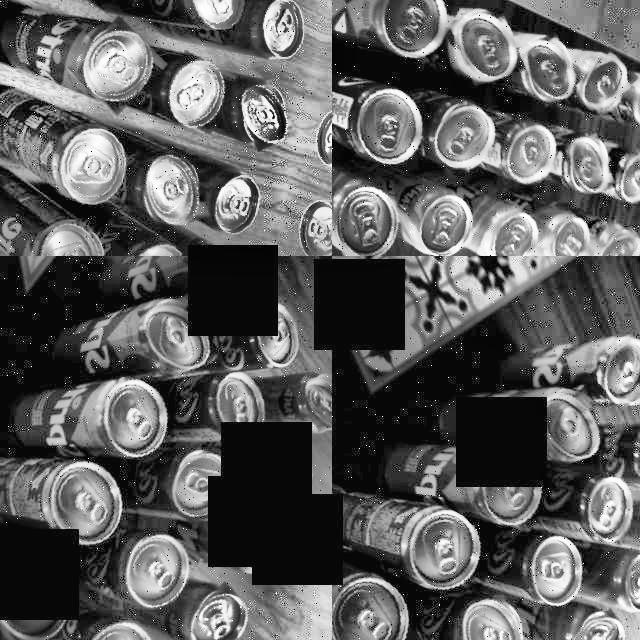Cans: (211, 56, 303, 175), (30, 462, 135, 566), (20, 102, 116, 213), (72, 371, 175, 466), (226, 278, 309, 393), (395, 504, 486, 608), (330, 76, 424, 174), (67, 22, 159, 116), (447, 0, 527, 101), (134, 290, 215, 387), (208, 364, 289, 461), (167, 449, 246, 547), (160, 44, 239, 140), (178, 0, 307, 58), (514, 6, 578, 119), (511, 536, 597, 618), (136, 141, 210, 234), (518, 386, 609, 460), (333, 567, 422, 640), (581, 26, 639, 136), (330, 184, 407, 265), (493, 109, 562, 198), (554, 119, 620, 211), (368, 0, 448, 70), (405, 187, 480, 261), (428, 98, 493, 181), (115, 534, 184, 612), (582, 337, 640, 417), (576, 474, 638, 547), (181, 578, 250, 640), (482, 208, 538, 268), (214, 169, 260, 242), (542, 216, 593, 269), (591, 224, 640, 268), (614, 142, 640, 220)
